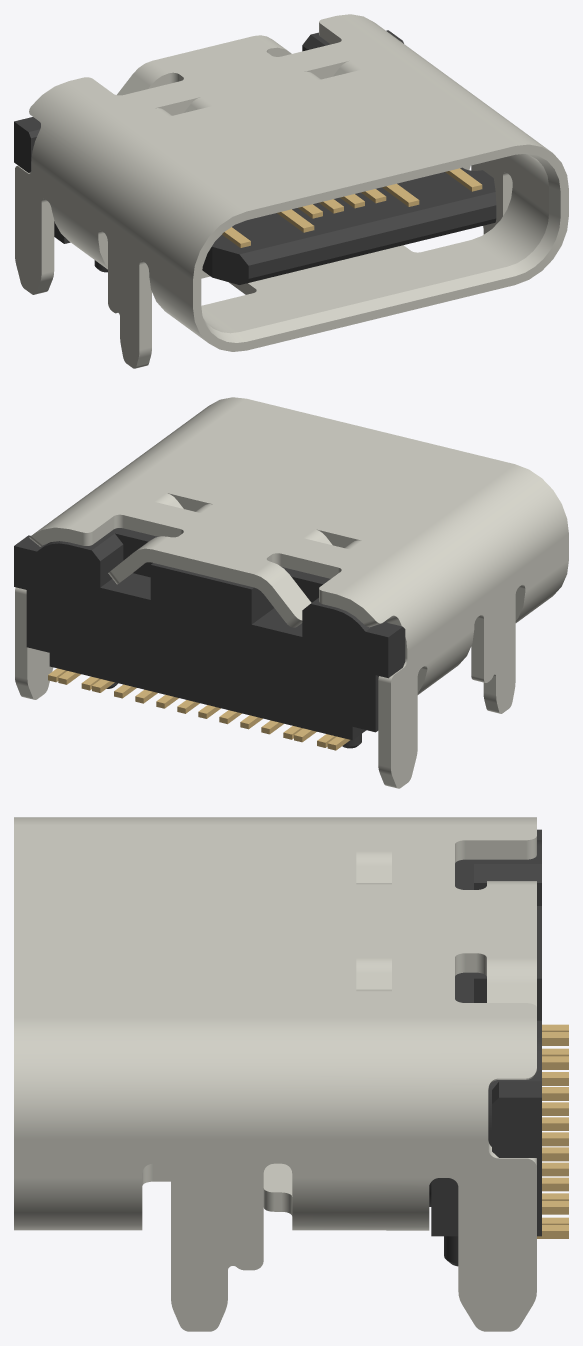
File: Connector_USB__USB_C_Receptacle_GCT_USB4105-xx-A_16P_TopMnt_Horizontal.glb
3 views of the same model, one above another, from view 1: azimuth 30°, elevation 25°; view 2: azimuth 150°, elevation 25°; view 3: azimuth 270°, elevation 25° (orthographic). The views are drawn at different scales.
Parts seen in each view (by area): view 1: USB_C_Receptacle_16P_TopMnt_Horizontal_GCT_USB4105-xx-A; view 2: USB_C_Receptacle_16P_TopMnt_Horizontal_GCT_USB4105-xx-A; view 3: USB_C_Receptacle_16P_TopMnt_Horizontal_GCT_USB4105-xx-A.
Boxes of the visible parts, x1,y1,x2,y2 form: USB_C_Receptacle_16P_TopMnt_Horizontal_GCT_USB4105-xx-A: (14,14,568,368); USB_C_Receptacle_16P_TopMnt_Horizontal_GCT_USB4105-xx-A: (14,397,568,788); USB_C_Receptacle_16P_TopMnt_Horizontal_GCT_USB4105-xx-A: (14,817,568,1331).
Size of the model in its own units: 0.00894 by 0.00426 by 0.00778.
